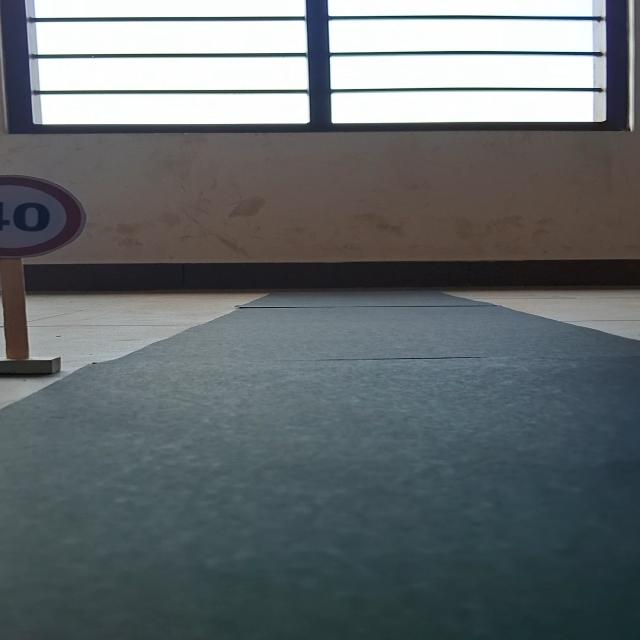Reject: (0, 173, 82, 254)
